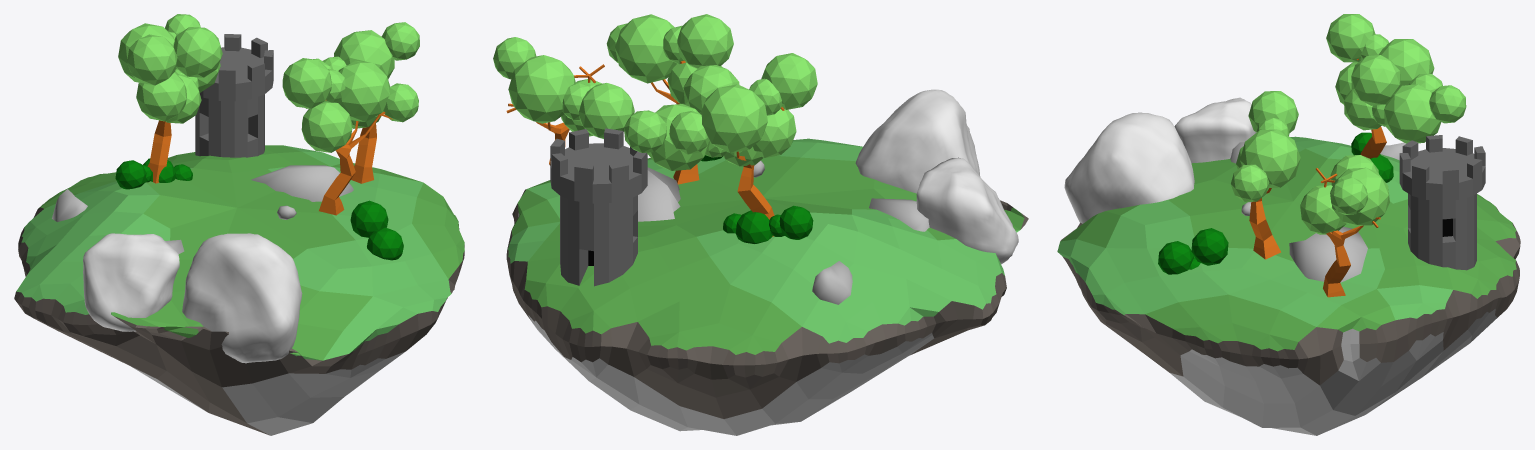
Rendered from mondonuovo.glb.
The picture shows the model from 3 angles, left to right: view 1: azimuth 30°, elevation 25°; view 2: azimuth 150°, elevation 25°; view 3: azimuth 270°, elevation 25°; orthographic projection. The views are drawn at different scales.
Visible parts, largest first — view 1: dobj, rock.001, Icosphere.001, rock.005, Cylinder, Icosphere, Icosphere.003, Icosphere.002, Icosphere.005, Cube.001, Icosphere.004, Cube.002 (+1 smaller); view 2: dobj, Cylinder, Icosphere, rock.001, Icosphere.002, Icosphere.001, rock.005, Icosphere.003, Icosphere.004, Cube, Cube.002, Cube.001; view 3: dobj, rock.001, Cylinder, Icosphere.003, Icosphere.001, Icosphere.002, Icosphere, rock.005, Icosphere.005, Cube.002, Cube.001, Icosphere.004 (+1 smaller).
Part boxes in pixels (<box>): dobj: <box>14,145,464,435</box>; rock.001: <box>182,233,302,363</box>; Icosphere.001: <box>282,58,418,152</box>; rock.005: <box>83,233,179,331</box>; Cylinder: <box>195,34,273,157</box>; Icosphere: <box>118,23,186,121</box>; Icosphere.003: <box>165,14,222,123</box>; Icosphere.002: <box>305,22,419,128</box>; Icosphere.005: <box>350,200,403,260</box>; Cube.001: <box>319,100,393,215</box>; Icosphere.004: <box>115,158,192,189</box>; Cube.002: <box>351,123,376,183</box>; dobj: <box>506,138,1028,435</box>; Cylinder: <box>550,128,647,286</box>; Icosphere: <box>669,53,817,157</box>; rock.001: <box>855,89,980,193</box>; Icosphere.002: <box>493,37,634,138</box>; Icosphere.001: <box>606,14,733,104</box>; rock.005: <box>916,157,1018,264</box>; Icosphere.003: <box>624,65,763,170</box>; Icosphere.004: <box>723,205,813,243</box>; Cube: <box>736,107,784,236</box>; Cube.002: <box>506,64,604,165</box>; Cube.001: <box>651,60,699,184</box>; dobj: <box>1057,136,1520,435</box>; rock.001: <box>1064,112,1194,223</box>; Cylinder: <box>1399,135,1485,270</box>; Icosphere.003: <box>1344,55,1466,143</box>; Icosphere.001: <box>1231,91,1300,201</box>; Icosphere.002: <box>1300,155,1389,234</box>; Icosphere: <box>1326,14,1442,104</box>; rock.005: <box>1174,97,1255,163</box>; Icosphere.005: <box>1158,228,1228,274</box>; Cube.002: <box>1315,168,1380,297</box>; Cube.001: <box>1249,188,1280,259</box>; Icosphere.004: <box>1351,132,1393,182</box>.
Size of the model in its own units: 6.15 by 5.31 by 5.93.
